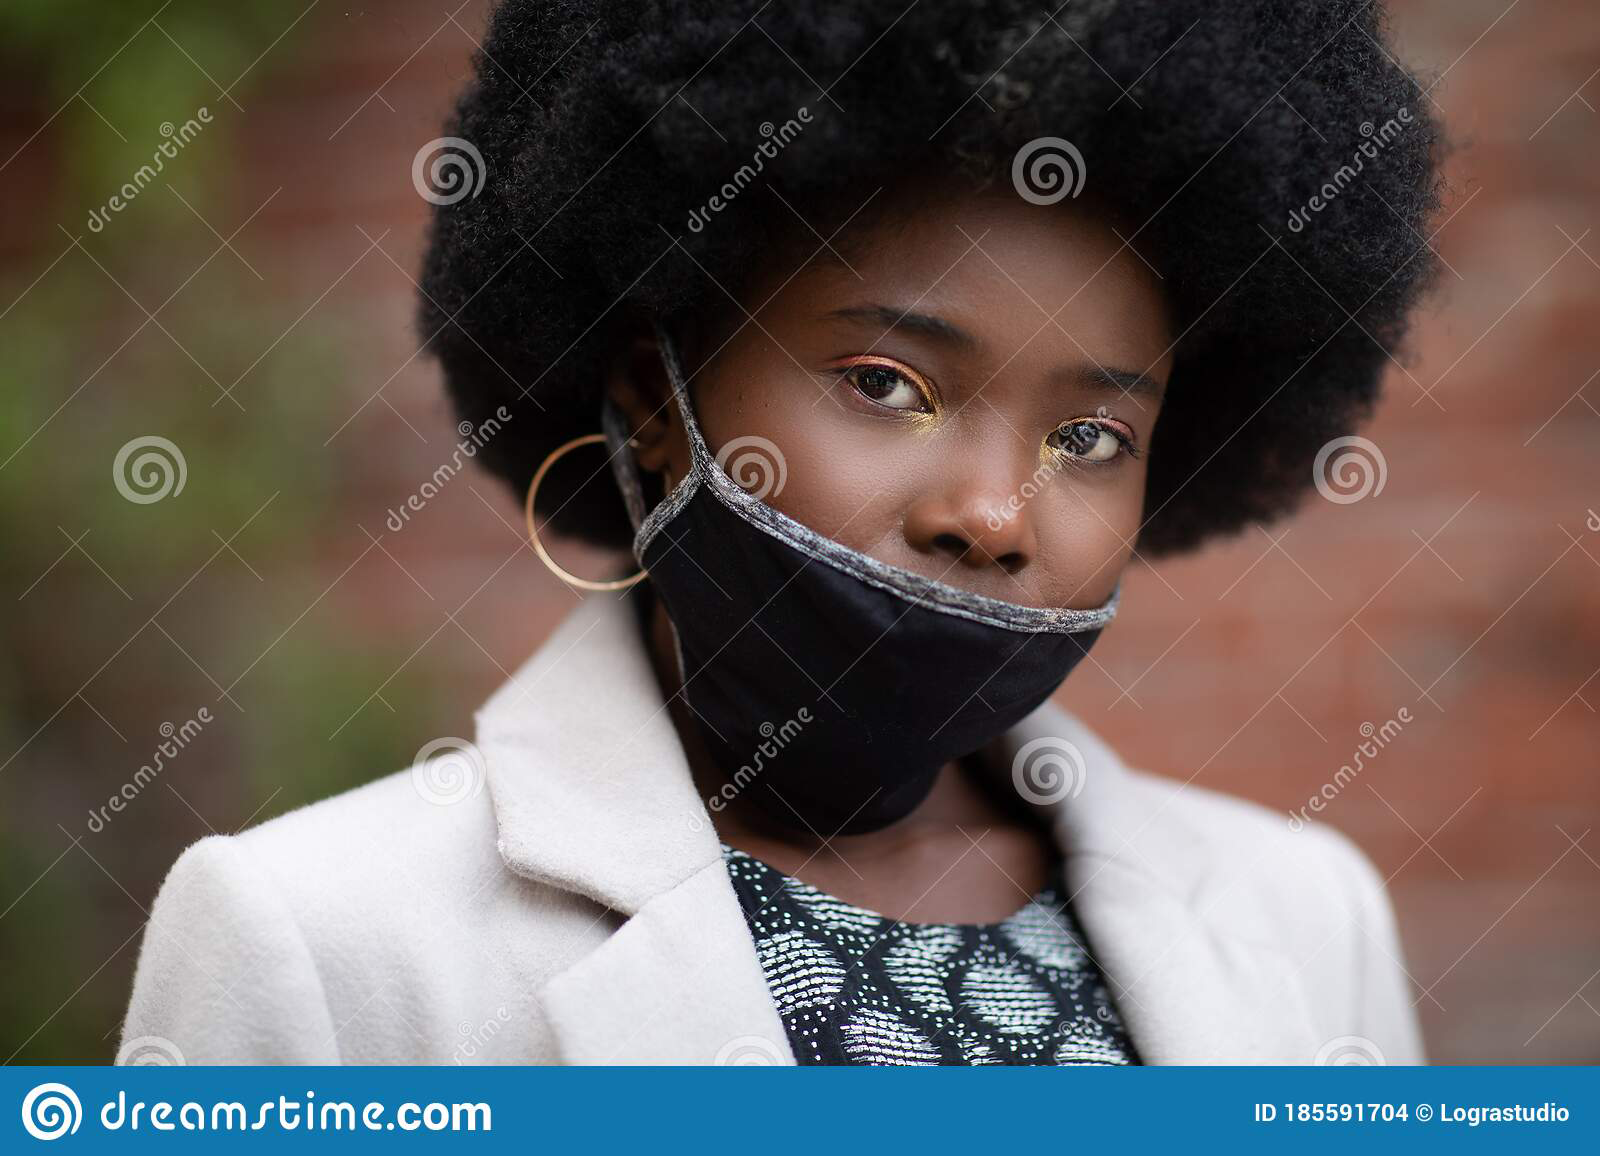mask_weared_incorrect: (656, 264, 1162, 844)
